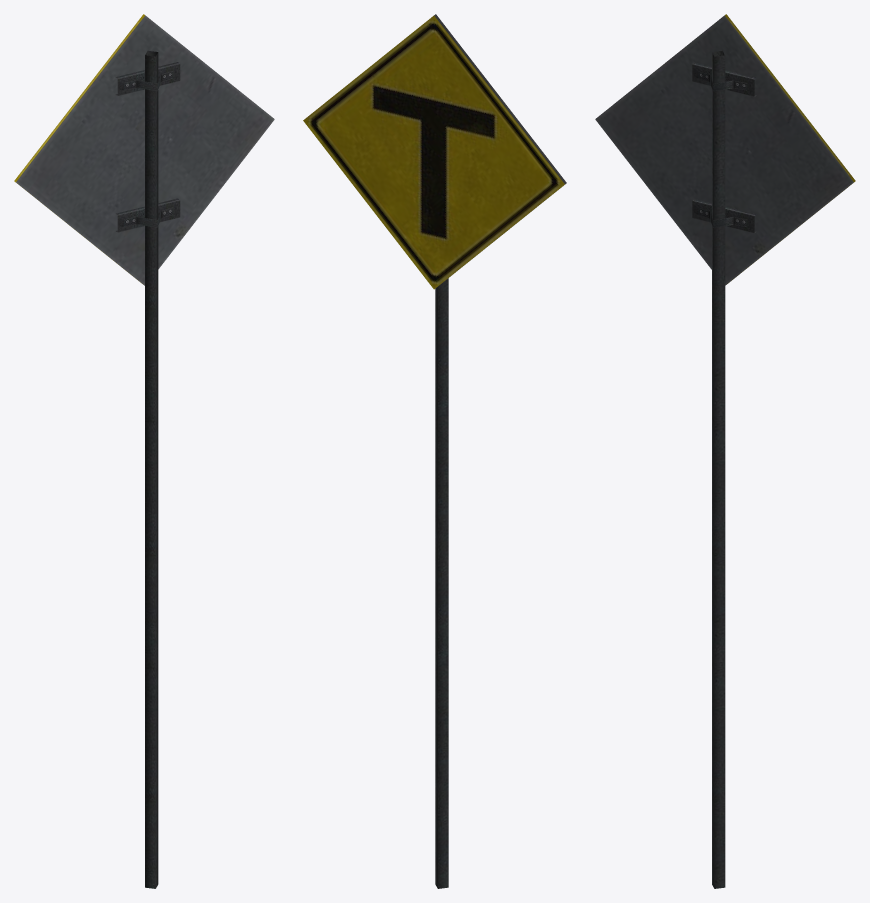
File: T-Junction.glb
The picture shows the model from 3 angles, left to right: view 1: azimuth 30°, elevation 25°; view 2: azimuth 150°, elevation 25°; view 3: azimuth 330°, elevation 25°; orthographic projection.
Visible parts, largest first — view 1: T_Junction__LOD1; view 2: T_Junction__LOD1; view 3: T_Junction__LOD1.
Boxes of the visible parts, left/top/right/bottom form: T_Junction__LOD1: left=14, top=14, right=274, bottom=888; T_Junction__LOD1: left=303, top=14, right=566, bottom=888; T_Junction__LOD1: left=595, top=14, right=855, bottom=888.
Bounding box in the file's own units: 0.9743 × 3.11 × 0.0893.
1 material, 1 textured.
